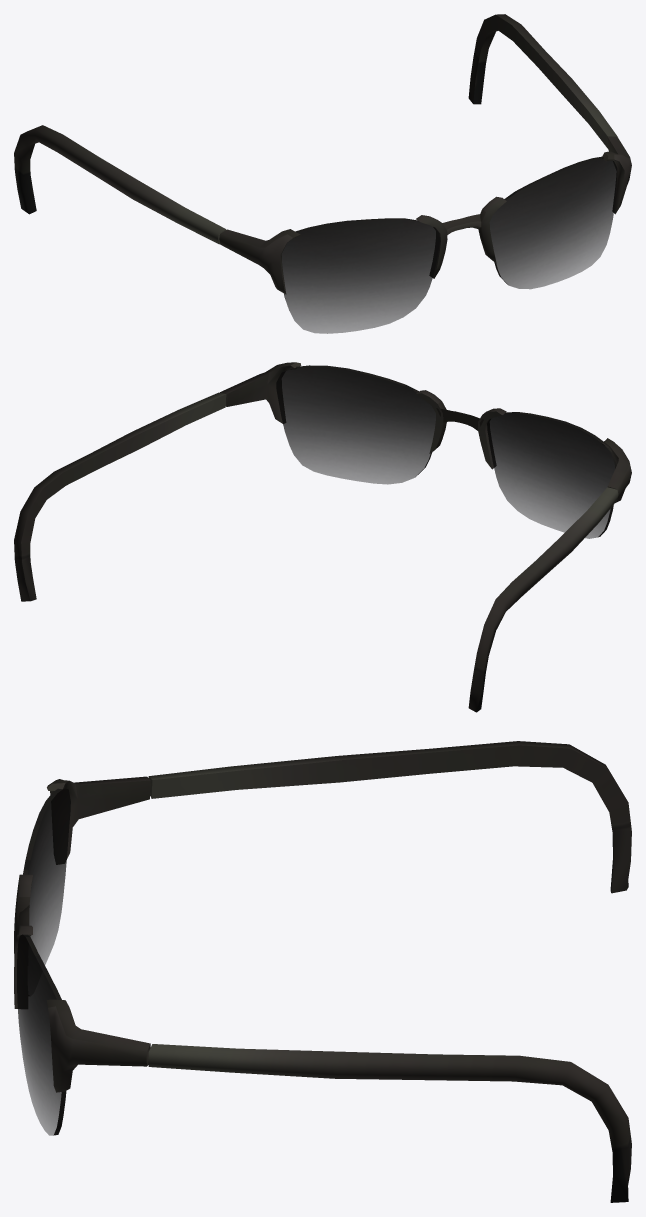
The picture shows the model from 3 angles, top to bottom: view 1: azimuth 30°, elevation 25°; view 2: azimuth 150°, elevation 25°; view 3: azimuth 270°, elevation 25°; orthographic projection. The views are drawn at different scales.
Parts seen in each view (by area): view 1: Wolf3D_Glasses; view 2: Wolf3D_Glasses; view 3: Wolf3D_Glasses.
Boxes of the visible parts, x1,y1,x2,y2 form: Wolf3D_Glasses: [14, 14, 631, 333]; Wolf3D_Glasses: [14, 362, 631, 712]; Wolf3D_Glasses: [14, 741, 631, 1202].
Bounding box in the file's own units: 0.1643 × 0.037 × 0.1311.
1 material, 1 textured.
